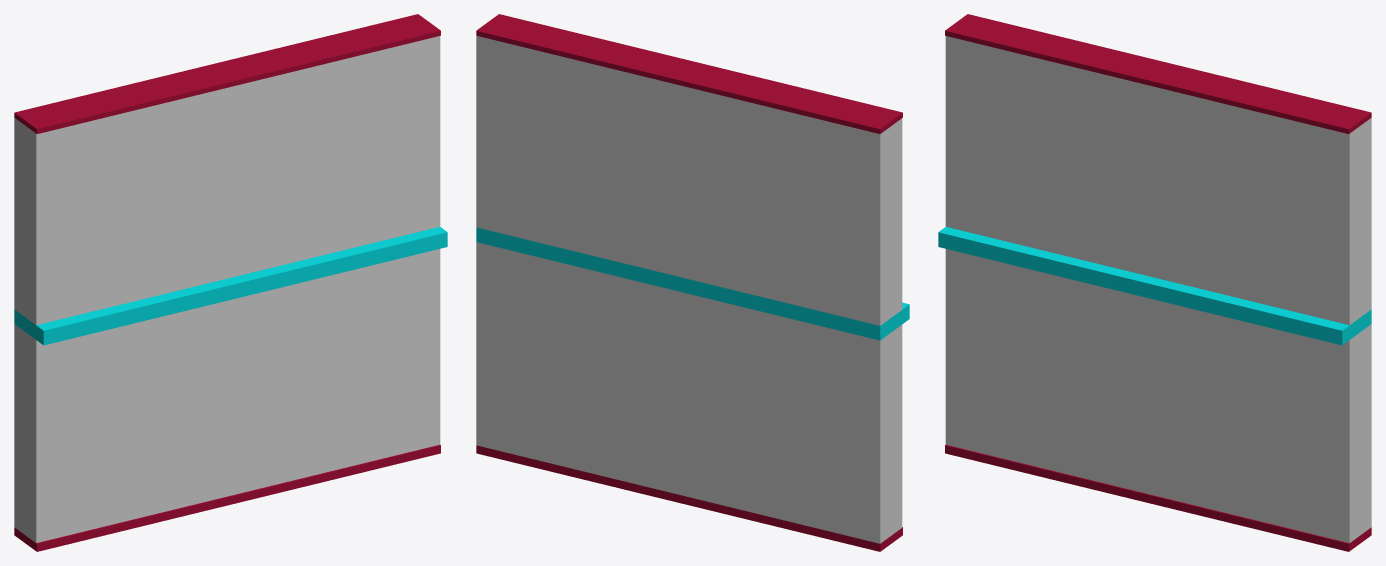
File: WALL1_bottom.fbx
3 views of the same model, side by side, from view 1: azimuth 30°, elevation 25°; view 2: azimuth 150°, elevation 25°; view 3: azimuth 330°, elevation 25° (orthographic).
Visible parts, largest first — view 1: WALL1_mesh; view 2: WALL1_mesh; view 3: WALL1_mesh.
Boxes of the visible parts, x1,y1,x2,y2 form: WALL1_mesh: [14, 14, 447, 551]; WALL1_mesh: [476, 14, 909, 551]; WALL1_mesh: [938, 14, 1371, 551].
Size of the model in its own units: 11.77 by 11.77 by 1.49.
